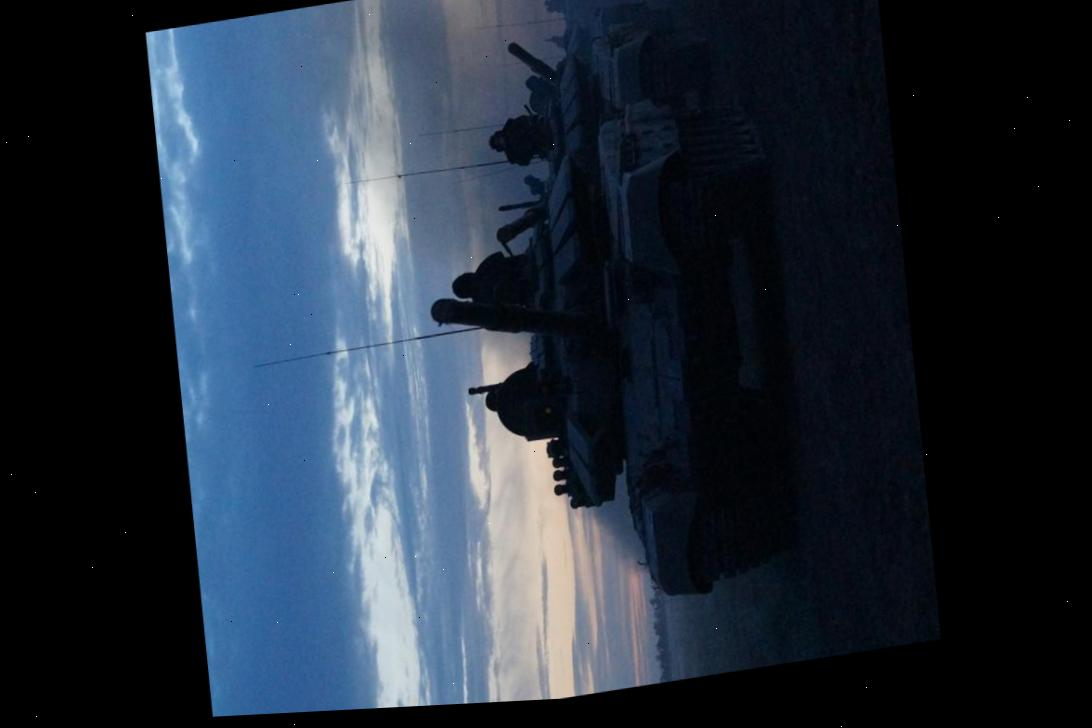tank: (420, 73, 845, 654), (504, 9, 722, 183), (536, 0, 646, 47)
